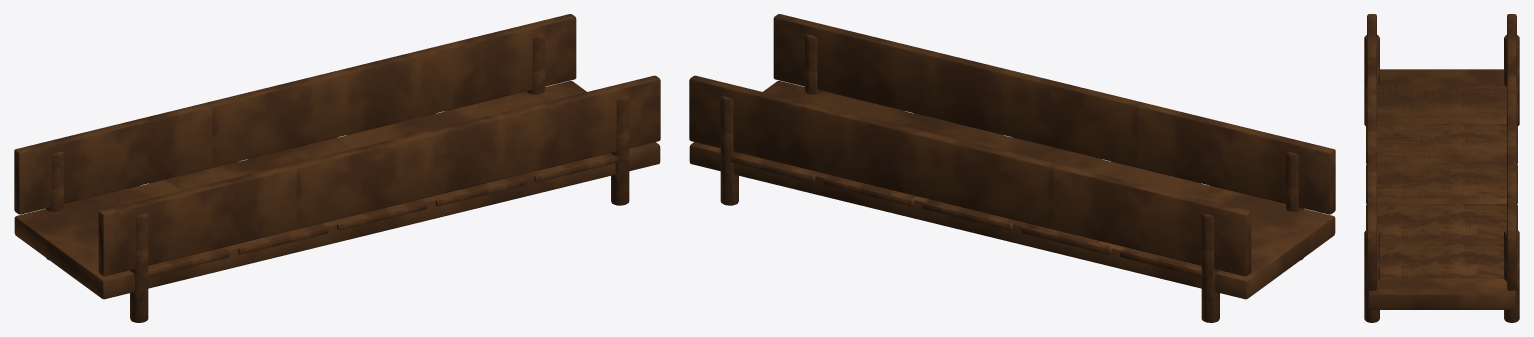
The model's file is prop_bridge.fbx.
3 renders of one model, left to right at view 1: azimuth 30°, elevation 25°; view 2: azimuth 150°, elevation 25°; view 3: azimuth 270°, elevation 25°, orthographic. The views are drawn at different scales.
Visible parts, largest first — view 1: prop_bridge; view 2: prop_bridge; view 3: prop_bridge.
Part boxes in pixels (x1,y1,x2,y2): prop_bridge: [14, 14, 660, 322]; prop_bridge: [689, 14, 1335, 322]; prop_bridge: [1364, 14, 1519, 322].
Bounding box in the file's own units: 6.5 × 1.3 × 1.89.
